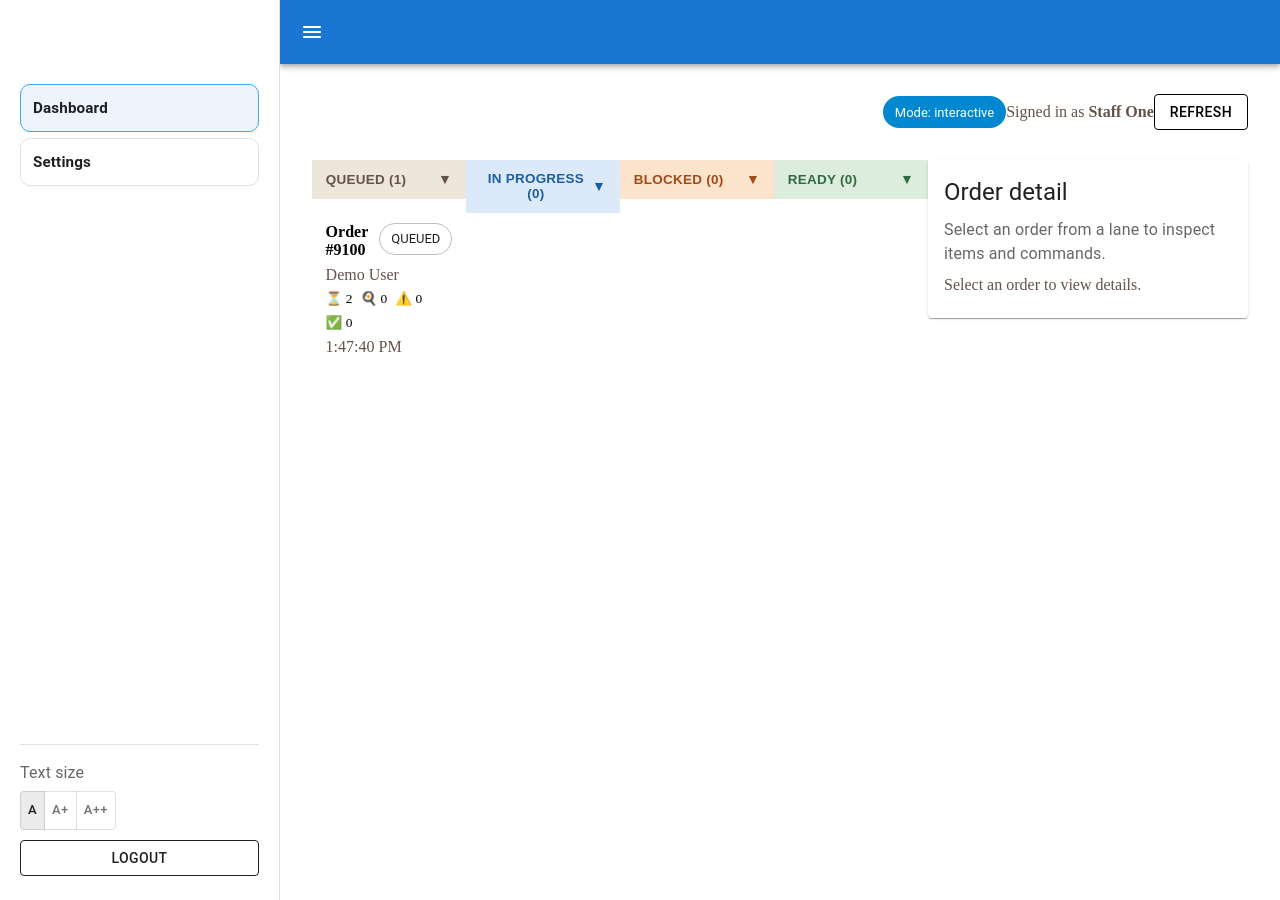
Test: Staff client — state machine flows › toggles lane fold state and keeps accurate header count
Expected: the button with test id "order-9100" is shown, [312,209,466,370]
What coordinates should you click on to do the following:
click the button with test id "lane-toggle-QUEUED"
I would click on:
 (389, 179)
Its box is [312,160,466,199].
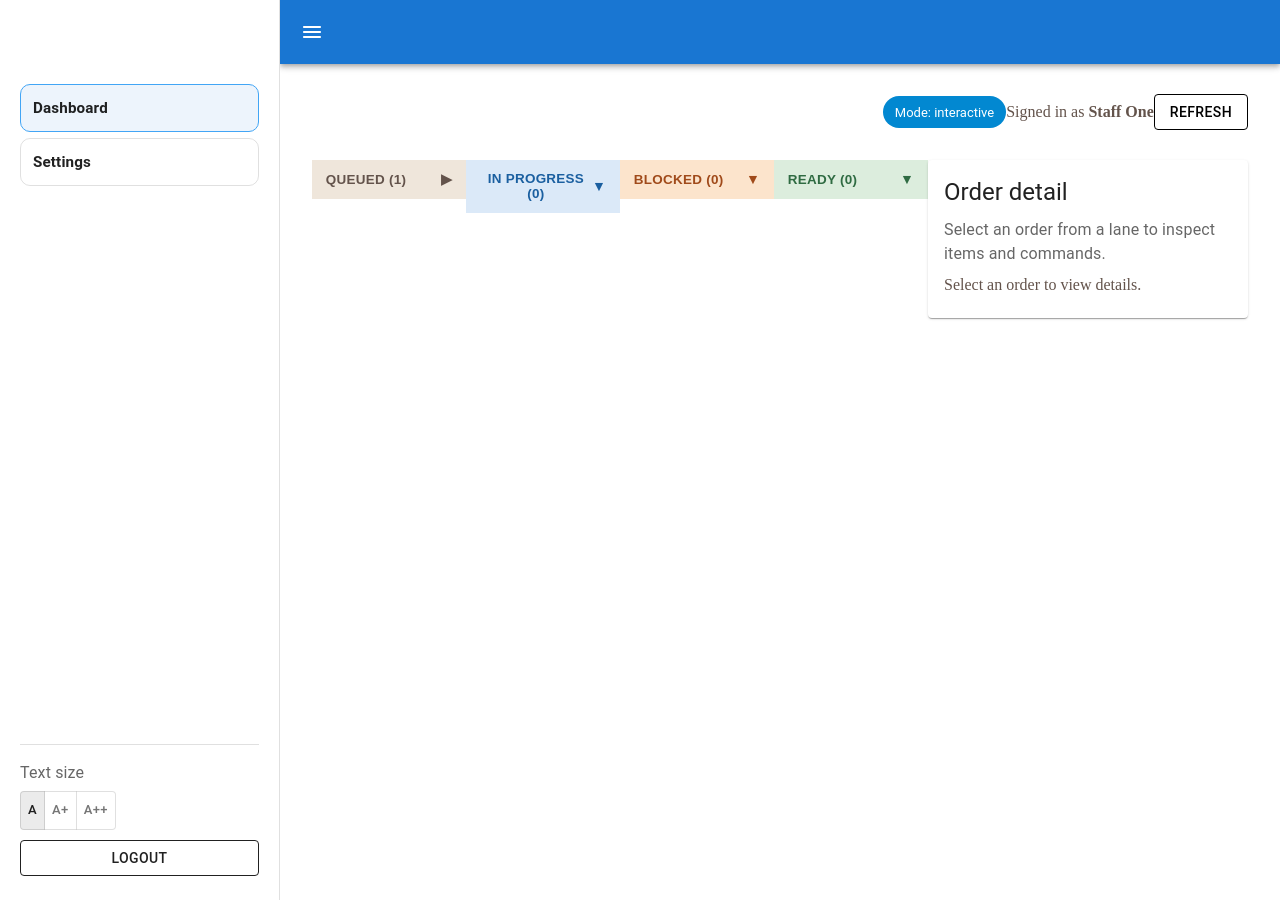
Expected: the button with test id "lane-toggle-QUEUED" shows "▶"
Expected: the button with test id "order-9100" is gone
What coordinates should you click on to do the following:
click the button with test id "lane-toggle-QUEUED"
I would click on:
 (389, 179)
Its box is [312,160,466,199].
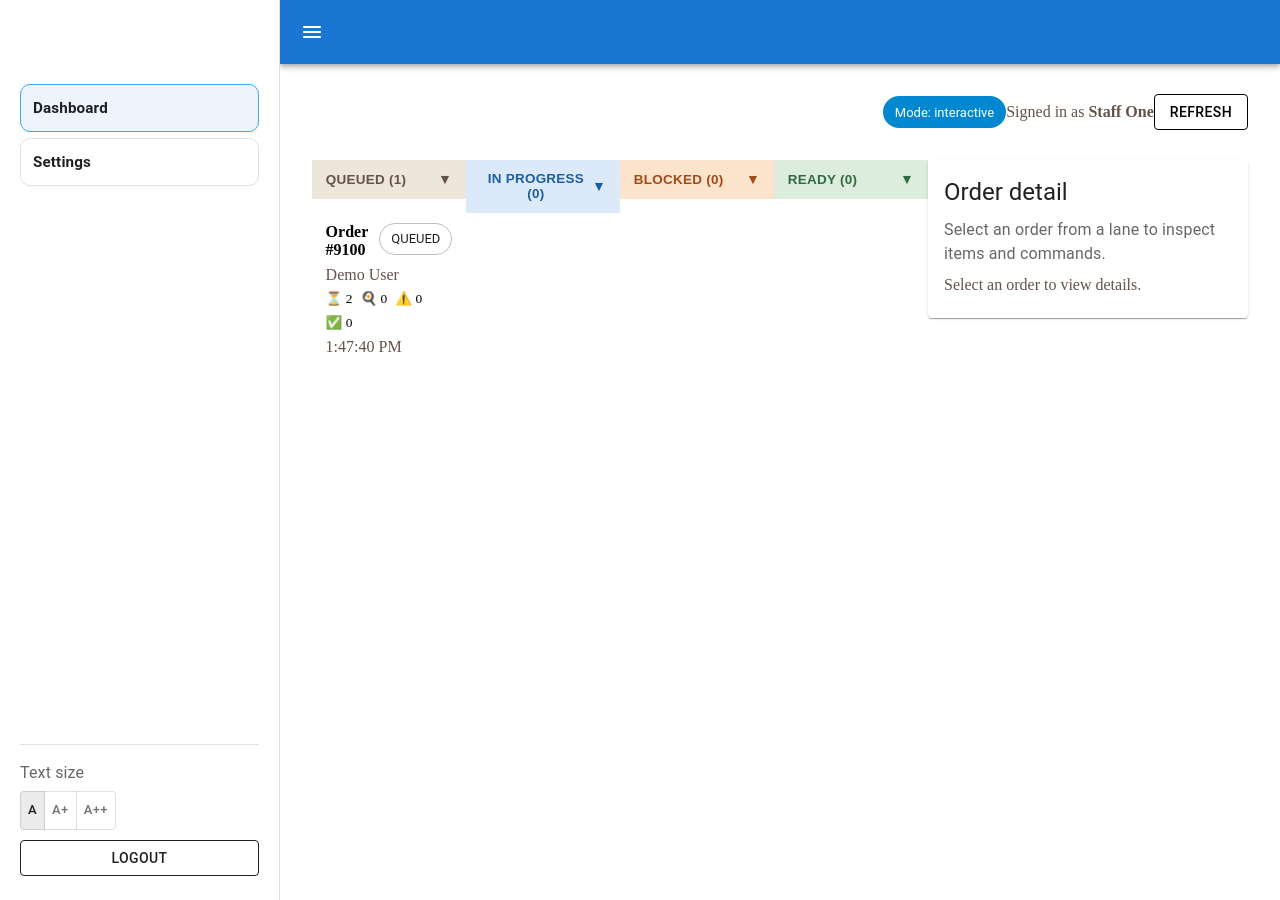
Expected: the button with test id "lane-toggle-QUEUED" shows "▼", [312,160,466,199]
Expected: the button with test id "order-9100" is shown, [312,209,466,370]
